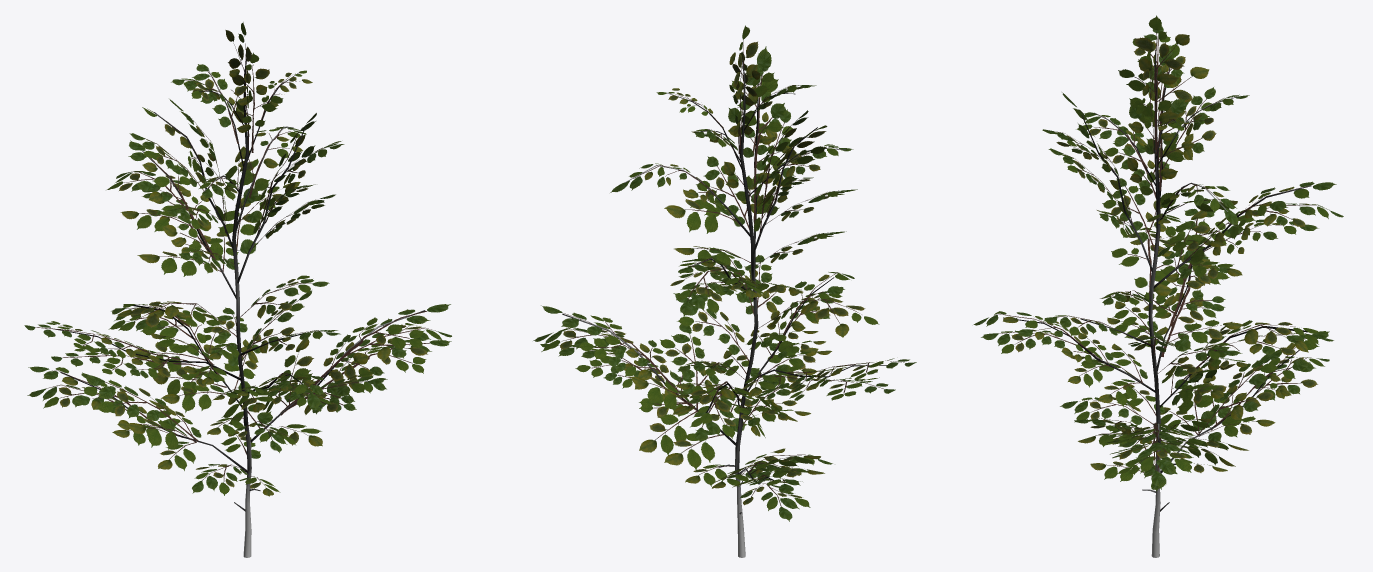
The model's file is PW_Tree_Small_01.fbx.
3 renders of one model, left to right at view 1: azimuth 30°, elevation 25°; view 2: azimuth 150°, elevation 25°; view 3: azimuth 270°, elevation 25°, orthographic.
Parts seen in each view (by area): view 1: PW_Tree_Aspen_Small_01_LOD0; view 2: PW_Tree_Aspen_Small_01_LOD0; view 3: PW_Tree_Aspen_Small_01_LOD0.
Boxes of the visible parts, x1=… form: PW_Tree_Aspen_Small_01_LOD0: x1=24, y1=22, x2=451, y2=557; PW_Tree_Aspen_Small_01_LOD0: x1=533, y1=25, x2=916, y2=557; PW_Tree_Aspen_Small_01_LOD0: x1=973, y1=15, x2=1343, y2=557.
Size of what is drawn, in the model's own units: 236 by 295 by 194.
